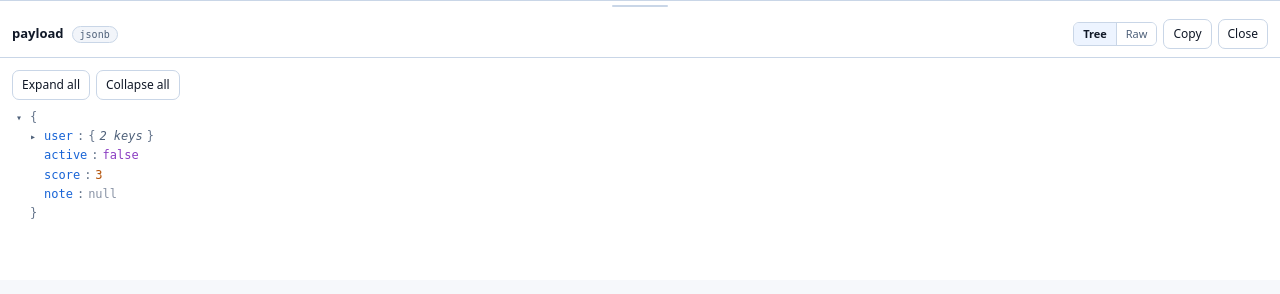
Test: CellContentPanel › renders json as a collapsible tree and falls back to raw text
Check: the text "2 keys" is shown, box [99,127,143,146]
Check: the text "name" is not shown
Click the button named "Expand user". click: (33, 137)
box: [26,129,40,145]
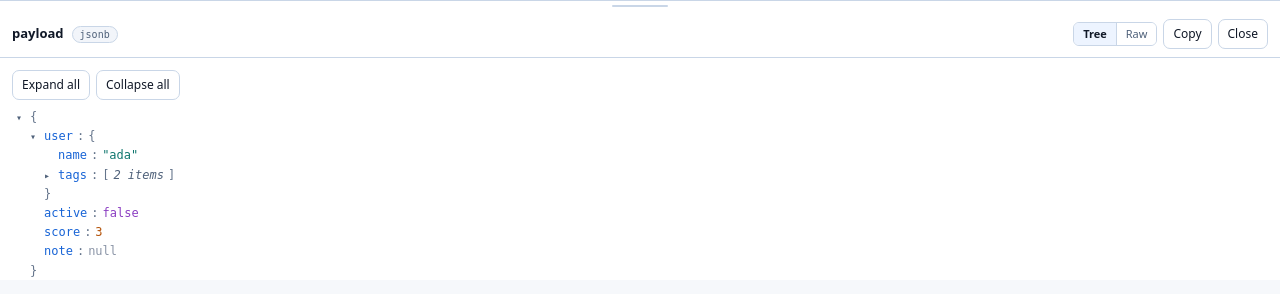
Check: the text "name" is shown, box [58,146,87,166]
Check: the text "\"ada\"" is shown, box [102,148,138,162]
Click the button "Expand all". click: (51, 85)
box: [12,70,90,100]
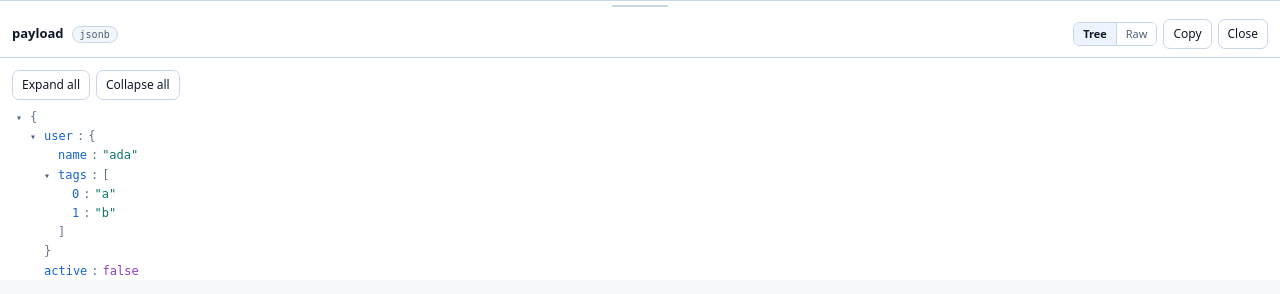
Check: the text "\"b\"" is shown, box [94,206,116,220]
Click the button "Collapse all". click: (138, 85)
box: [96,70,180,100]
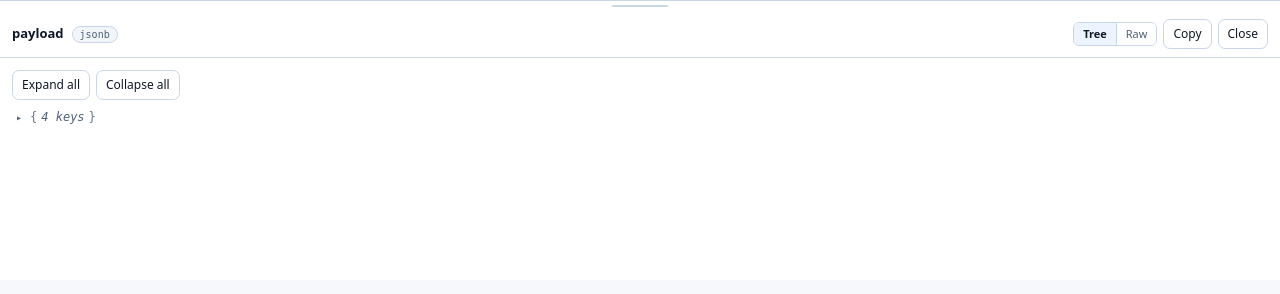
Check: the text "name" is gone
